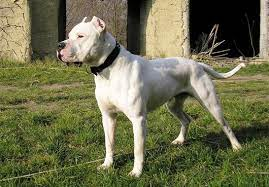dog: (51, 15, 250, 178)
